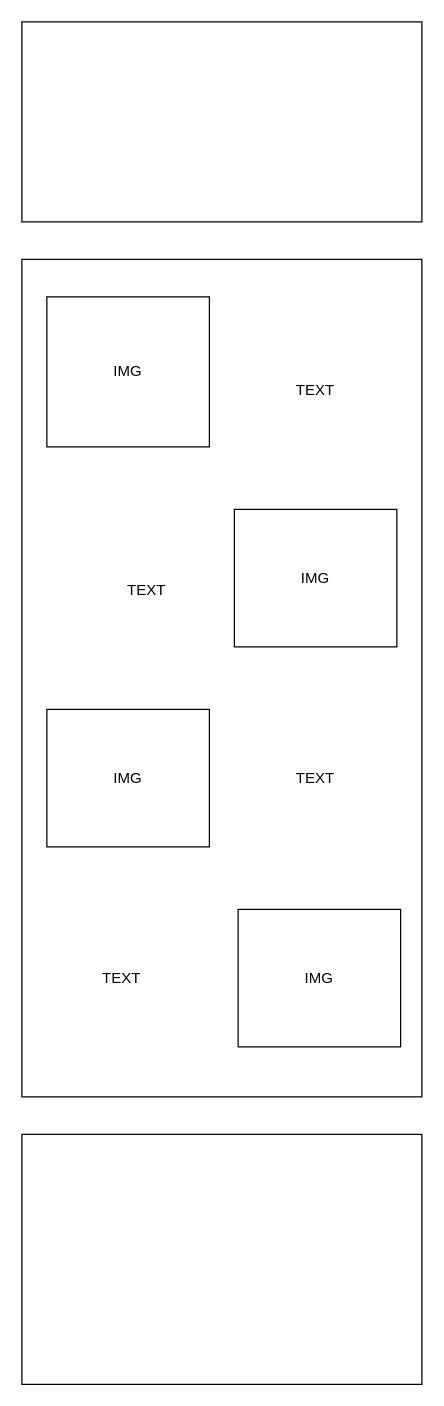
This 444x1406 diagram has some shape labels left out. Here are the shapes that lost their labels. From the top down, the box of each, then its label:
(21, 21, 422, 222): HISTORY
(21, 1133, 422, 1384): FOOTER
